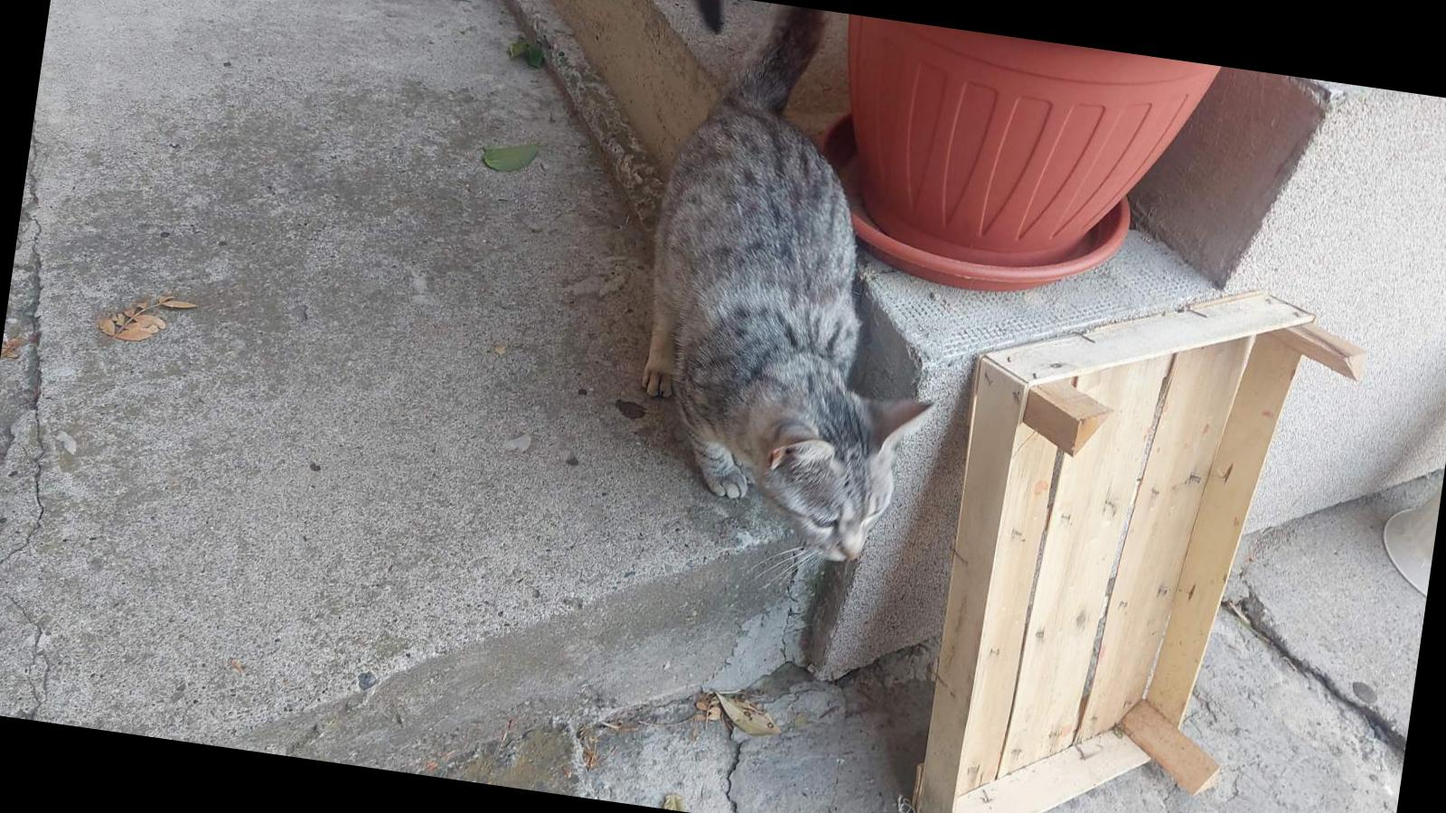macka: (613, 0, 991, 570)
